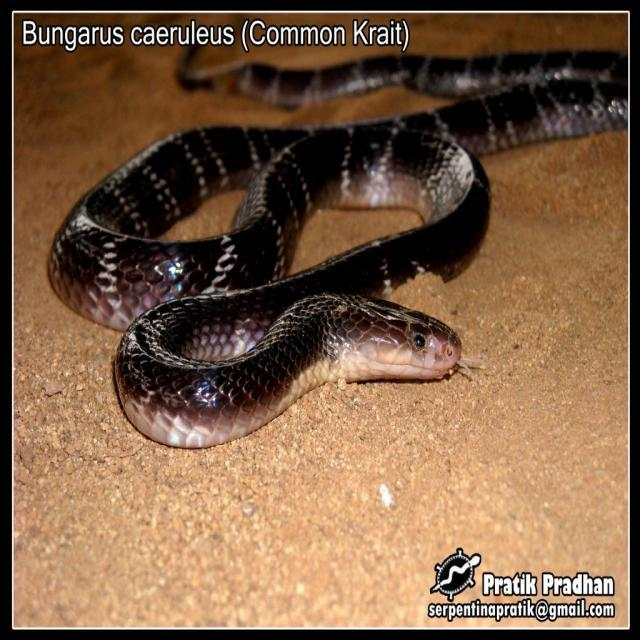Snake: (45, 45, 628, 449)
